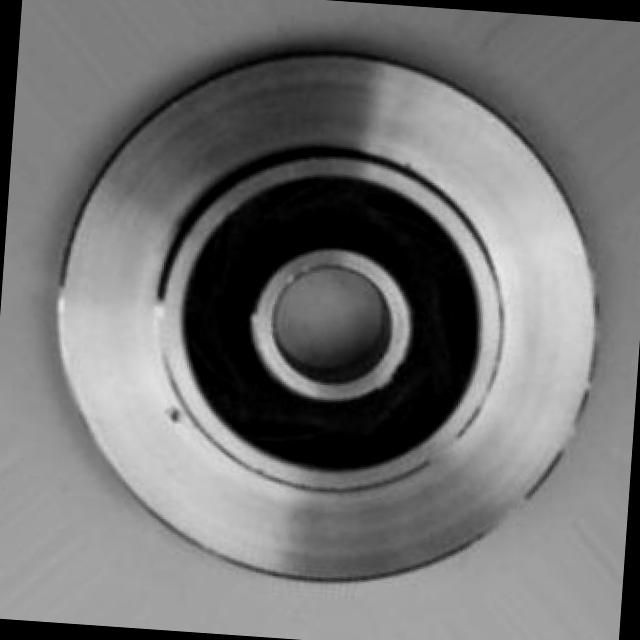Defect: (165, 403, 188, 430)
